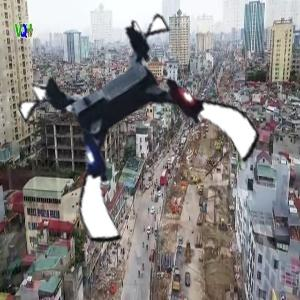drone: (38, 24, 245, 231)
